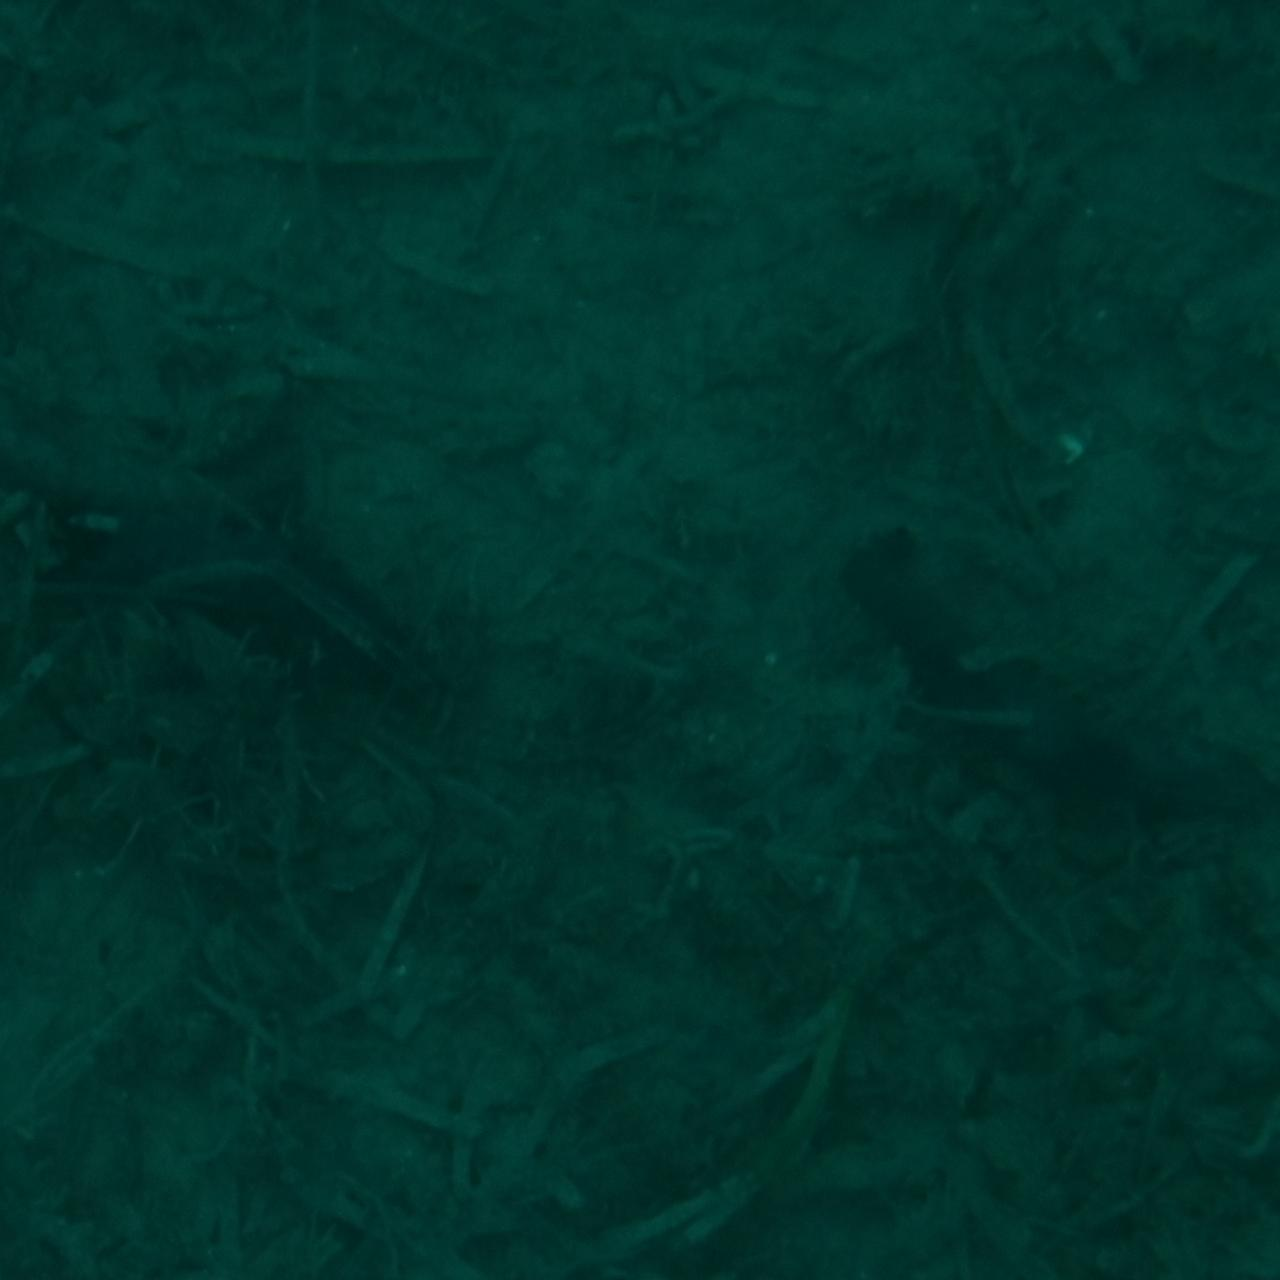Holothuria tubulosa: (835, 535, 1278, 838), (2, 498, 445, 692)
